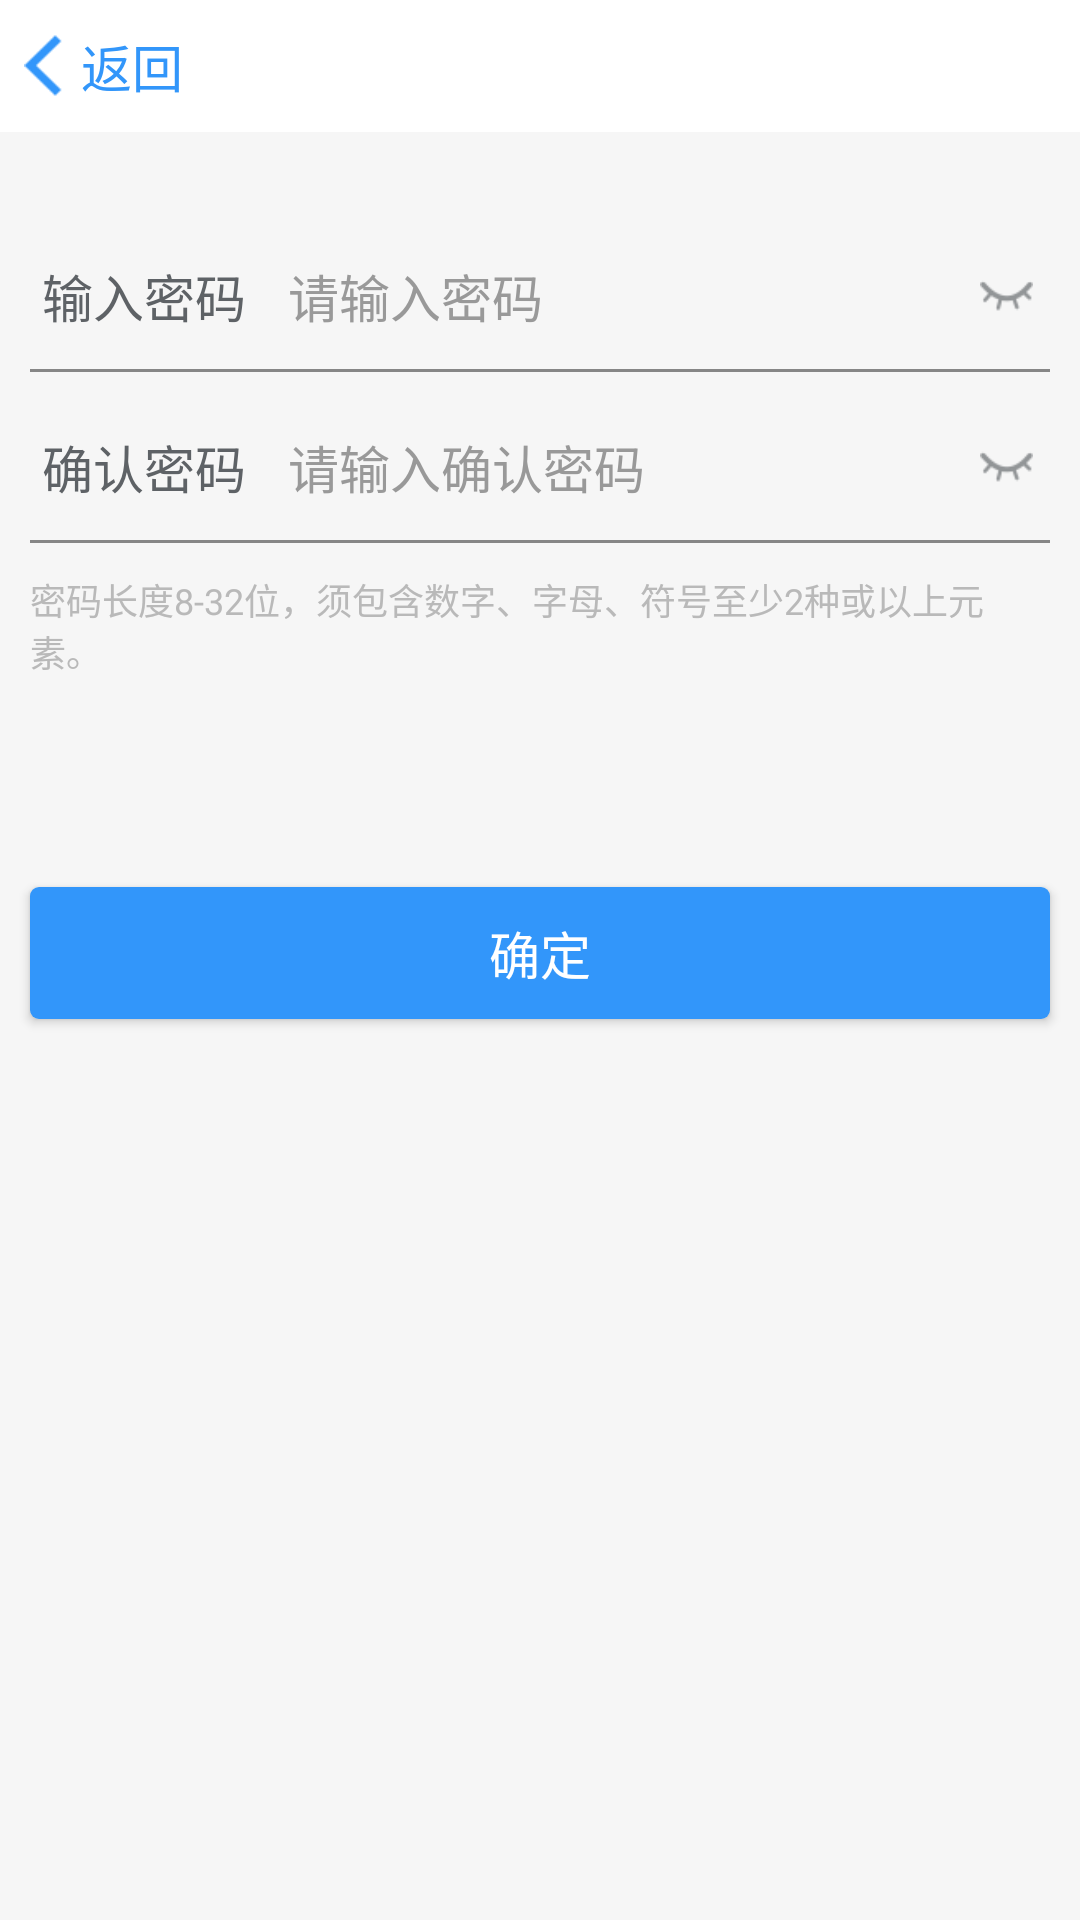

Locate icon controls on the screen. Image size 1080px×1920px, boxes as (x1, y1, x2, y2).
bukejian: (980, 282, 1033, 310), (980, 453, 1033, 481)
